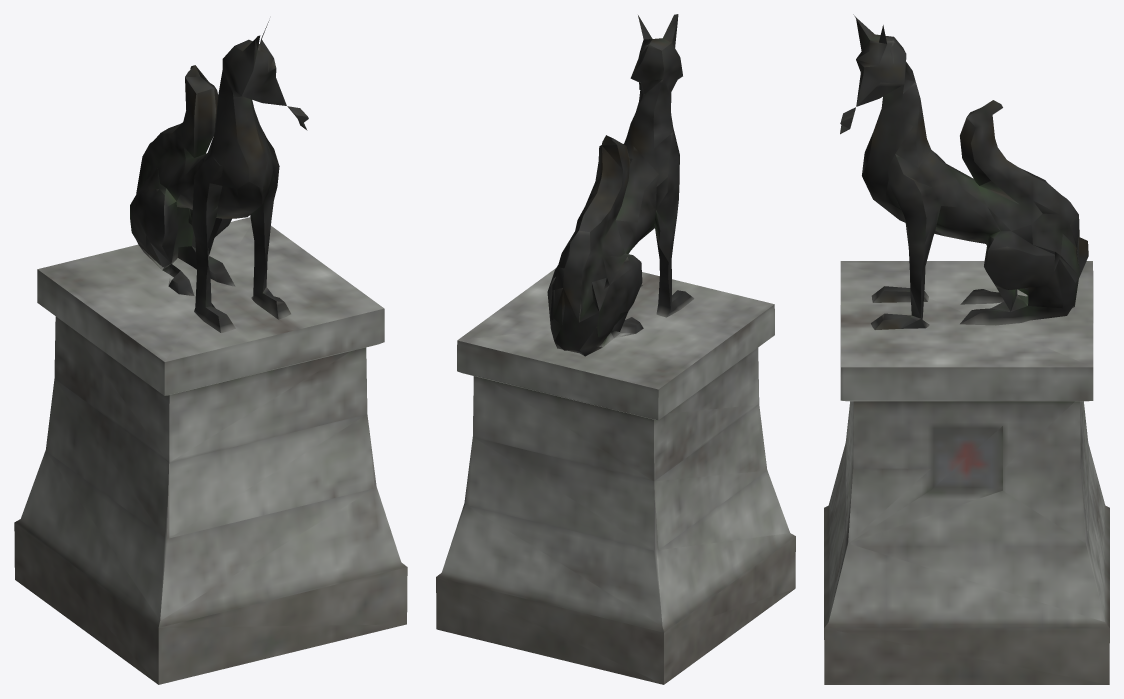
The model's file is mk_kitsune.glb.
The picture shows the model from 3 angles, left to right: view 1: azimuth 30°, elevation 25°; view 2: azimuth 150°, elevation 25°; view 3: azimuth 270°, elevation 25°; orthographic projection. The views are drawn at different scales.
Visible parts, largest first — view 1: mesh; view 2: mesh; view 3: mesh.
Part boxes in pixels (left/top/right/bottom): mesh: left=14, top=20, right=407, bottom=684; mesh: left=436, top=14, right=795, bottom=684; mesh: left=824, top=14, right=1109, bottom=684.
Bounding box in the file's own units: 0.0721 × 0.17 × 0.0723.
Materials: 1 (1 with a texture image).
